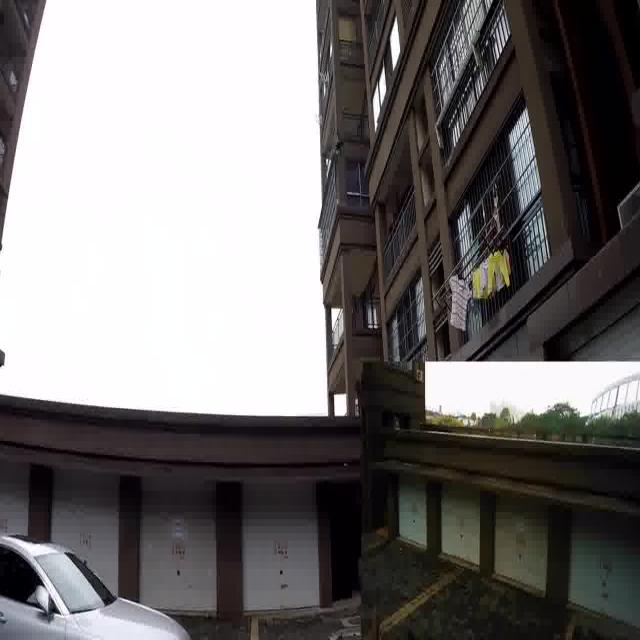drones: (328, 133, 348, 161)
